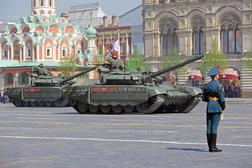t72: (80, 57, 203, 113)
